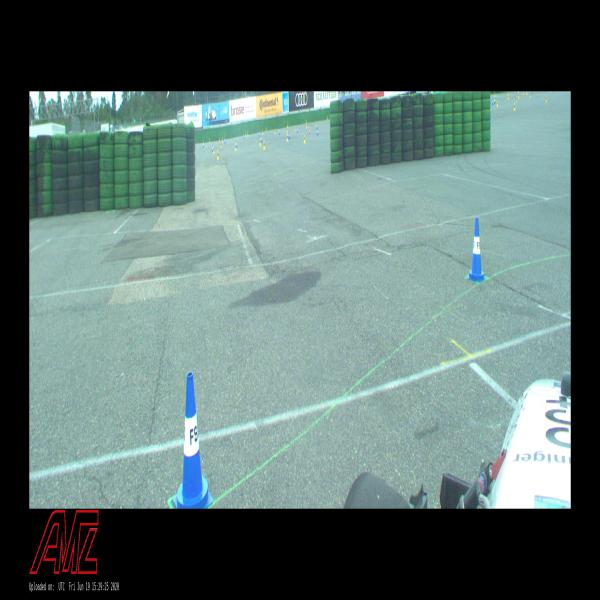blue_cone: (173, 372, 213, 508), (467, 218, 486, 282), (202, 140, 204, 148), (288, 132, 290, 140), (317, 128, 319, 136), (261, 135, 263, 143), (243, 132, 245, 139), (258, 131, 260, 137), (316, 123, 318, 129), (236, 142, 238, 148), (279, 128, 280, 136), (297, 126, 298, 134), (212, 145, 213, 152), (492, 99, 493, 106), (494, 98, 495, 104), (225, 138, 226, 144), (308, 125, 309, 131)
orange_cone: (221, 144, 222, 152), (219, 138, 220, 144), (309, 128, 310, 134)
yellow_cone: (303, 134, 306, 144), (264, 140, 266, 150), (217, 150, 219, 160), (259, 137, 261, 147), (235, 142, 237, 151), (213, 145, 215, 154), (514, 103, 516, 111), (286, 134, 288, 142), (545, 94, 547, 102), (529, 91, 531, 98), (496, 100, 498, 107), (262, 129, 264, 136), (247, 130, 249, 137), (507, 94, 509, 100), (515, 96, 517, 102), (294, 125, 296, 131), (274, 128, 276, 134), (222, 137, 224, 143), (494, 91, 496, 97), (245, 130, 247, 136), (209, 138, 211, 142), (306, 122, 307, 128), (518, 93, 519, 99), (315, 120, 316, 126), (287, 127, 288, 133), (287, 122, 288, 128), (327, 115, 328, 120), (523, 92, 524, 95)
